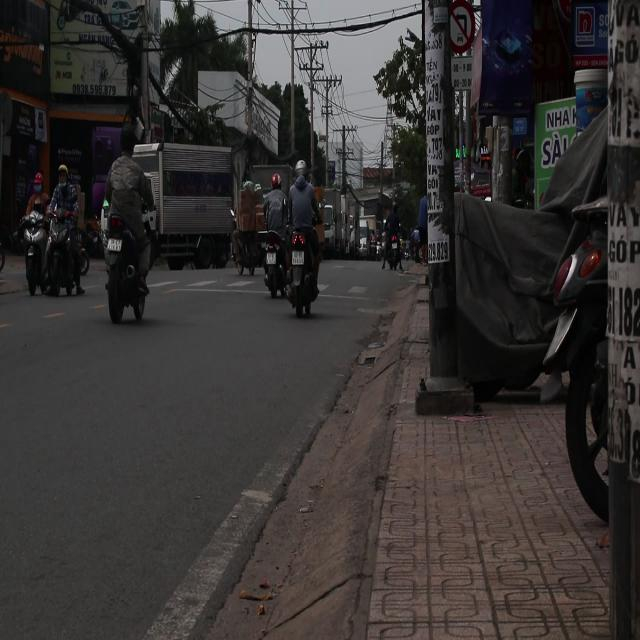car: (468, 173, 492, 201)
motorbike: (101, 208, 157, 325), (278, 218, 332, 315), (46, 206, 92, 312), (23, 194, 49, 305), (262, 224, 290, 303), (384, 211, 404, 275), (235, 230, 262, 277)
truck: (136, 139, 236, 273)
